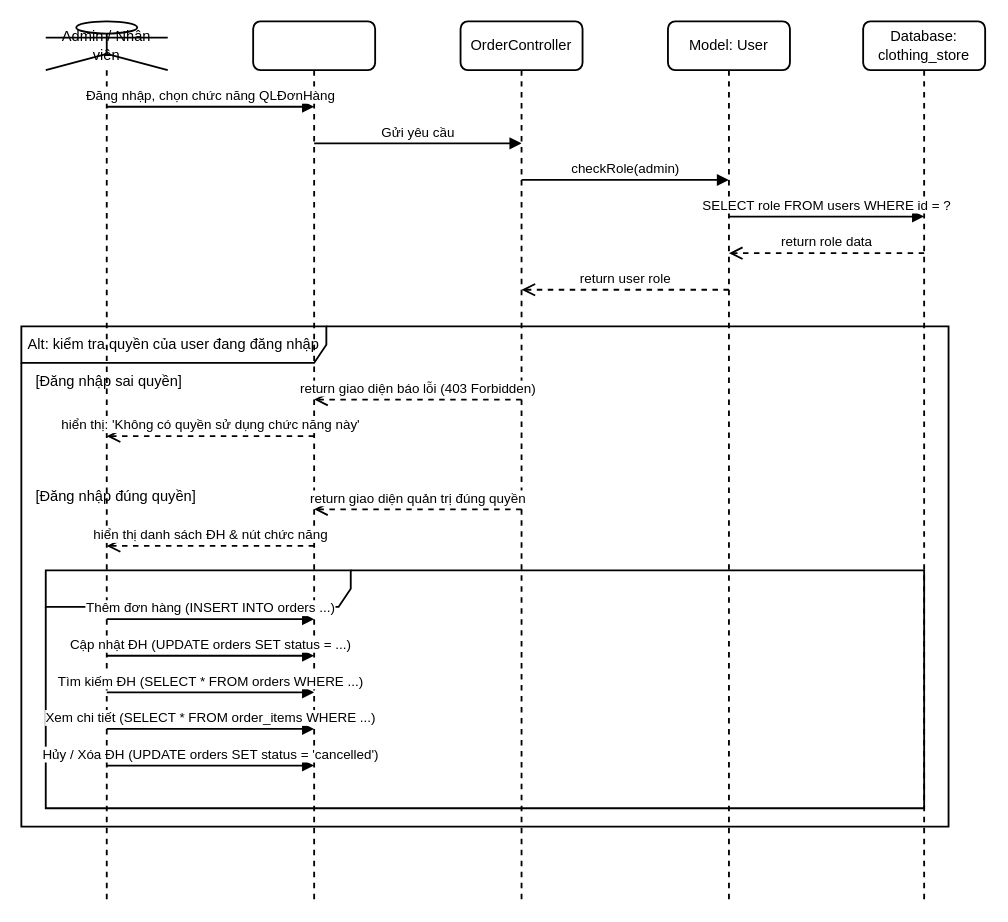
This 1008x922 diagram has some shape labels left out. The shapes that lost their labels are listed below. From the top down, each one's centre as x and y in pixels, then its label:
the point at 314,460: Giao diện (Admin Panel)
the point at 484,689: Alt: lựa chọn chức năng quản lý đơn hàng
